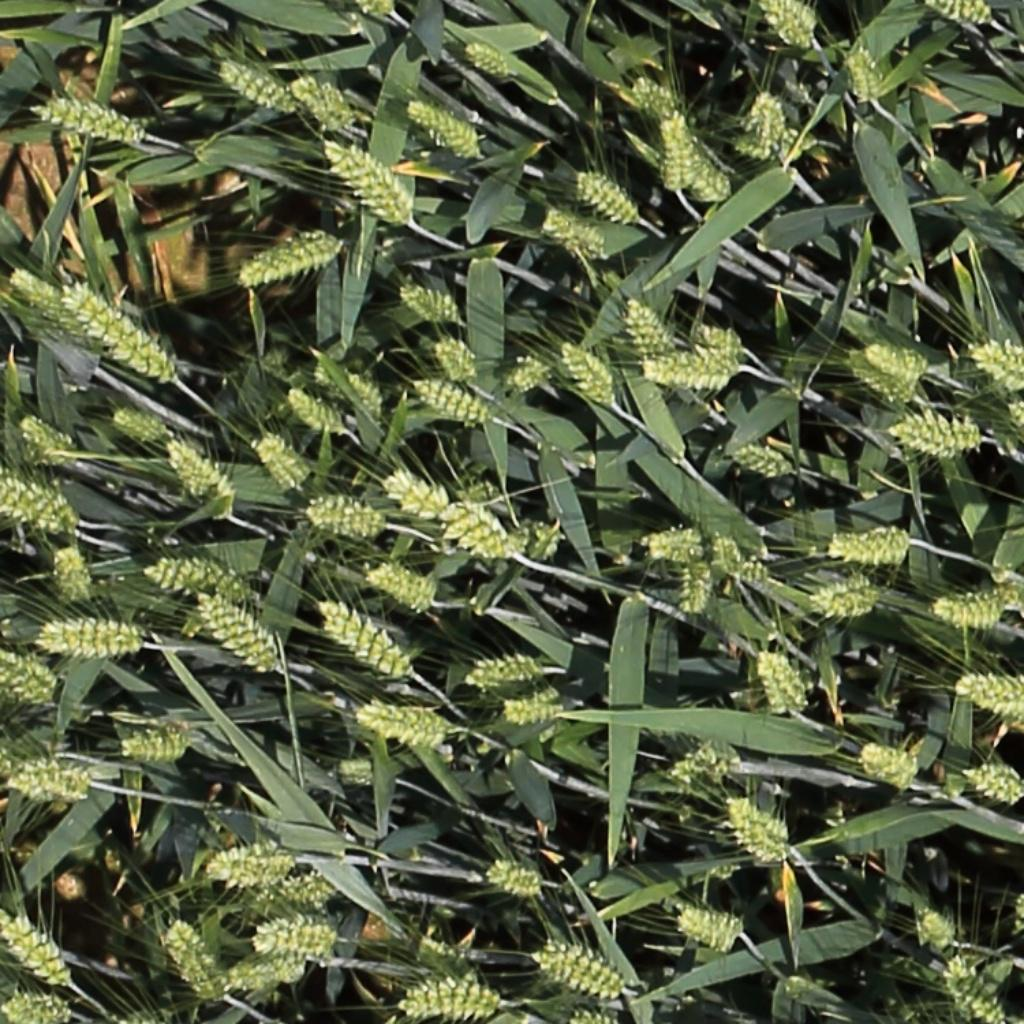0-0: (61, 283, 181, 387), (322, 137, 420, 225), (236, 227, 347, 291), (314, 606, 408, 679), (161, 438, 237, 525), (191, 595, 274, 673), (6, 268, 88, 341), (0, 908, 74, 988), (158, 916, 223, 1004), (31, 612, 149, 660), (395, 972, 508, 1021), (0, 469, 80, 538), (349, 698, 455, 750), (720, 793, 794, 866), (31, 97, 150, 142), (533, 938, 630, 993), (885, 410, 980, 462), (438, 499, 517, 560), (141, 562, 253, 604), (726, 120, 822, 168), (3, 759, 99, 806), (797, 568, 883, 620), (554, 337, 615, 408), (639, 351, 742, 393), (926, 586, 1012, 635), (404, 99, 480, 154), (823, 521, 911, 568), (940, 957, 1004, 1021), (214, 60, 294, 111), (301, 493, 384, 542), (622, 292, 674, 368), (457, 649, 547, 691), (675, 901, 746, 953), (203, 838, 288, 881), (666, 740, 746, 785), (249, 432, 308, 492), (845, 353, 914, 404), (408, 378, 486, 423), (119, 721, 200, 764), (965, 335, 1024, 394), (755, 648, 804, 719), (572, 169, 637, 222), (657, 109, 698, 192), (289, 72, 352, 125), (251, 927, 334, 966), (254, 874, 346, 909), (14, 412, 80, 460), (218, 953, 305, 989), (225, 852, 301, 893), (857, 742, 924, 788), (634, 520, 707, 562), (963, 757, 1024, 806), (339, 363, 386, 425), (958, 685, 1024, 729), (253, 910, 341, 943), (383, 469, 447, 514), (761, 1, 820, 49), (282, 386, 341, 434), (50, 540, 91, 607), (0, 649, 57, 697), (364, 567, 432, 607), (539, 211, 604, 252), (862, 344, 926, 385), (516, 514, 567, 565), (670, 558, 717, 613), (110, 400, 173, 440), (499, 690, 571, 724), (742, 86, 785, 142), (3, 992, 78, 1024), (483, 859, 547, 896), (843, 43, 879, 107), (397, 283, 458, 320), (428, 335, 475, 382), (689, 159, 737, 205), (623, 75, 680, 113), (955, 677, 1024, 708), (729, 445, 793, 477), (914, 907, 957, 951), (709, 530, 747, 579), (462, 40, 513, 76), (699, 323, 751, 358), (927, 0, 999, 25), (502, 353, 550, 390), (691, 341, 744, 368), (740, 551, 774, 587), (565, 1009, 619, 1024), (1004, 395, 1024, 434), (354, 0, 393, 17)
